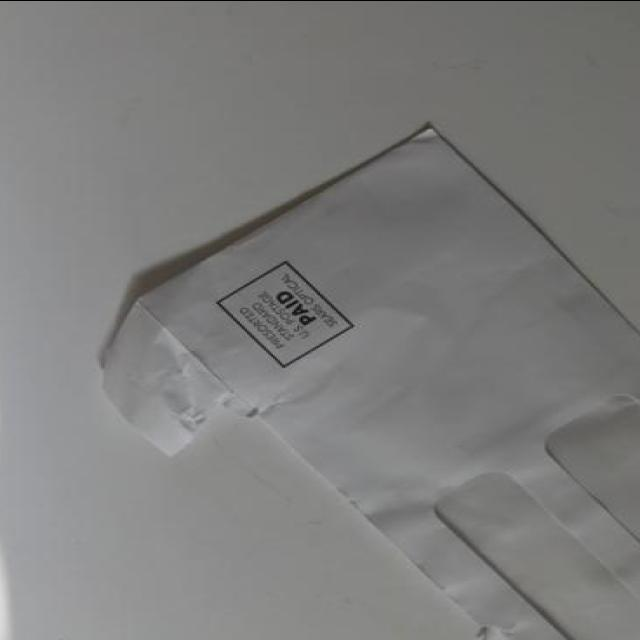kertas: (97, 119, 640, 640)
